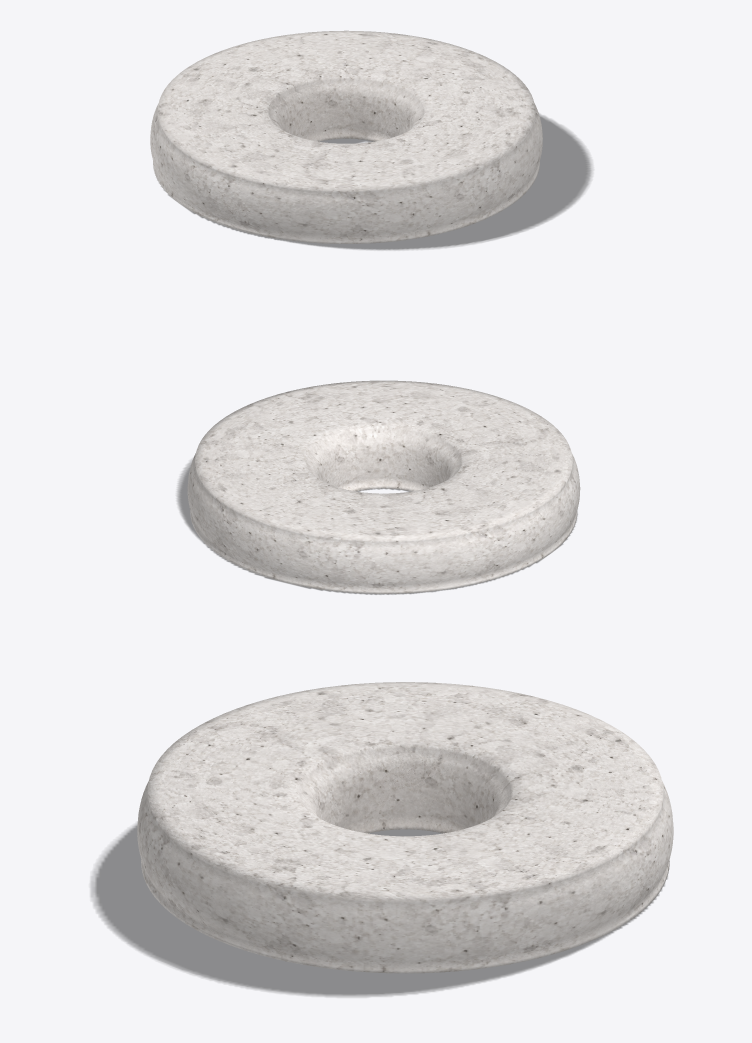
The model's file is tzaar-tzarra-white.glb.
The picture shows the model from 3 angles, top to bottom: view 1: azimuth 30°, elevation 25°; view 2: azimuth 150°, elevation 25°; view 3: azimuth 270°, elevation 25°; orthographic projection. The views are drawn at different scales.
Parts seen in each view (by area): view 1: tzaar-tzarra-white, tzaar-tzarra-white ground shadow; view 2: tzaar-tzarra-white, tzaar-tzarra-white ground shadow; view 3: tzaar-tzarra-white, tzaar-tzarra-white ground shadow.
Part boxes in pixels (x1=…): tzaar-tzarra-white: x1=150, y1=30, x2=542, y2=243; tzaar-tzarra-white ground shadow: x1=164, y1=114, x2=591, y2=249; tzaar-tzarra-white: x1=187, y1=380, x2=580, y2=593; tzaar-tzarra-white ground shadow: x1=177, y1=459, x2=573, y2=594; tzaar-tzarra-white: x1=137, y1=682, x2=673, y2=973; tzaar-tzarra-white ground shadow: x1=91, y1=824, x2=667, y2=996.
Size of the model in its own units: 0.0378 by 0.00435 by 0.0378.
2 materials, 2 textured.
